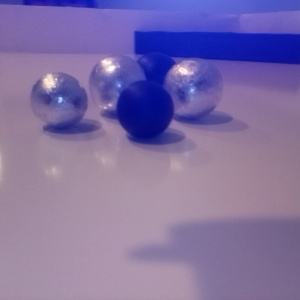alive_ball: (163, 57, 223, 119), (89, 54, 146, 115), (30, 72, 88, 128)
dead_ball: (116, 80, 174, 138), (128, 52, 182, 107)
